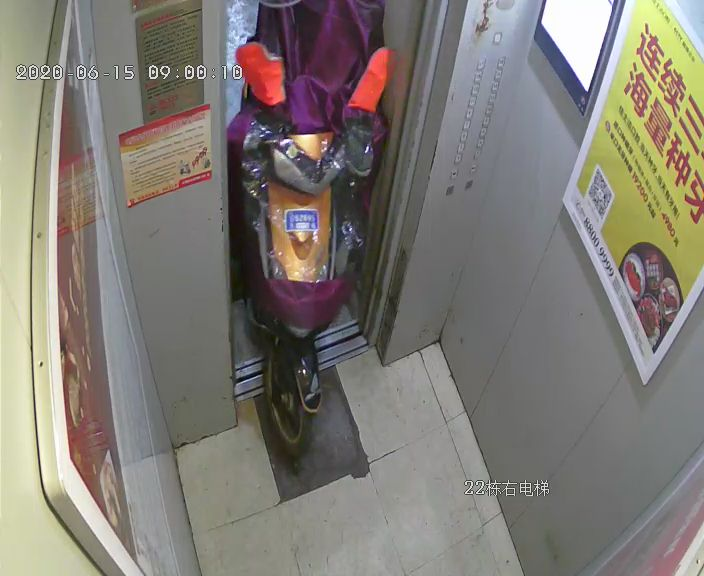Electric-bicycle: (236, 120, 379, 459)
